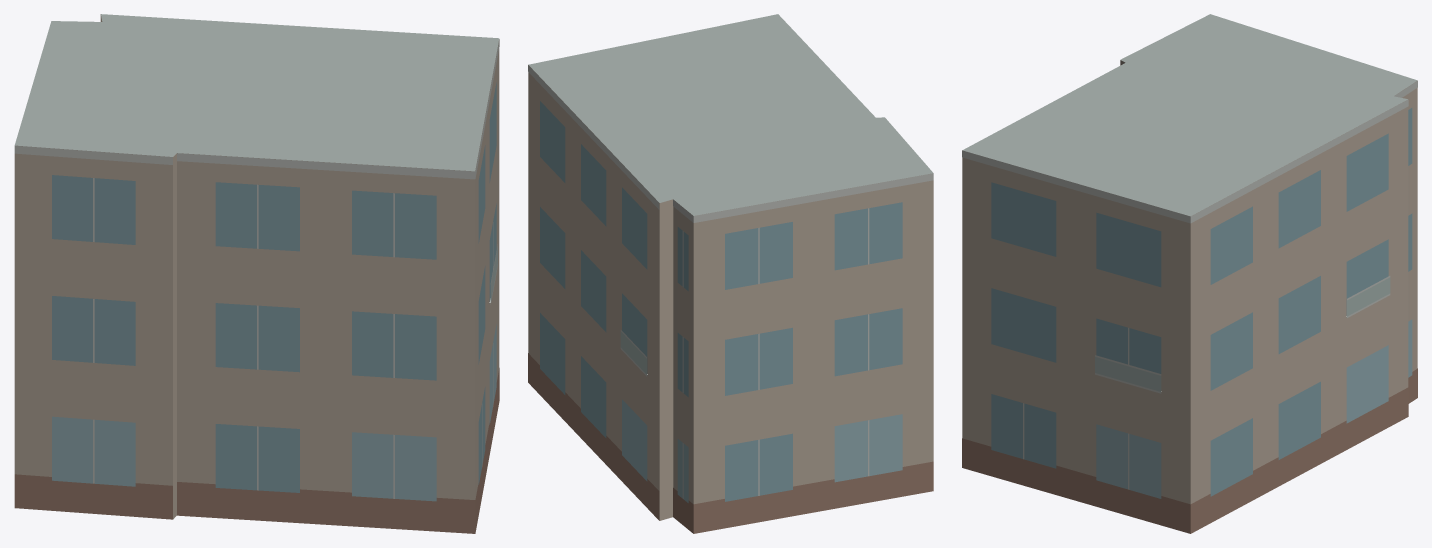
File: survey-upis-32709519.glb
3 renders of one model, left to right at view 1: azimuth 30°, elevation 25°; view 2: azimuth 150°, elevation 25°; view 3: azimuth 270°, elevation 25°, orthographic. The views are drawn at different scales.
Parts seen in each view (by area): view 1: survey-upis-32709519.tmp; view 2: survey-upis-32709519.tmp; view 3: survey-upis-32709519.tmp.
Part boxes in pixels (x1,y1,x2,y2): survey-upis-32709519.tmp: (14,14,499,533); survey-upis-32709519.tmp: (528,14,933,533); survey-upis-32709519.tmp: (962,14,1417,533).
Size of the model in its own units: 14.91 by 10.9 by 14.18.
